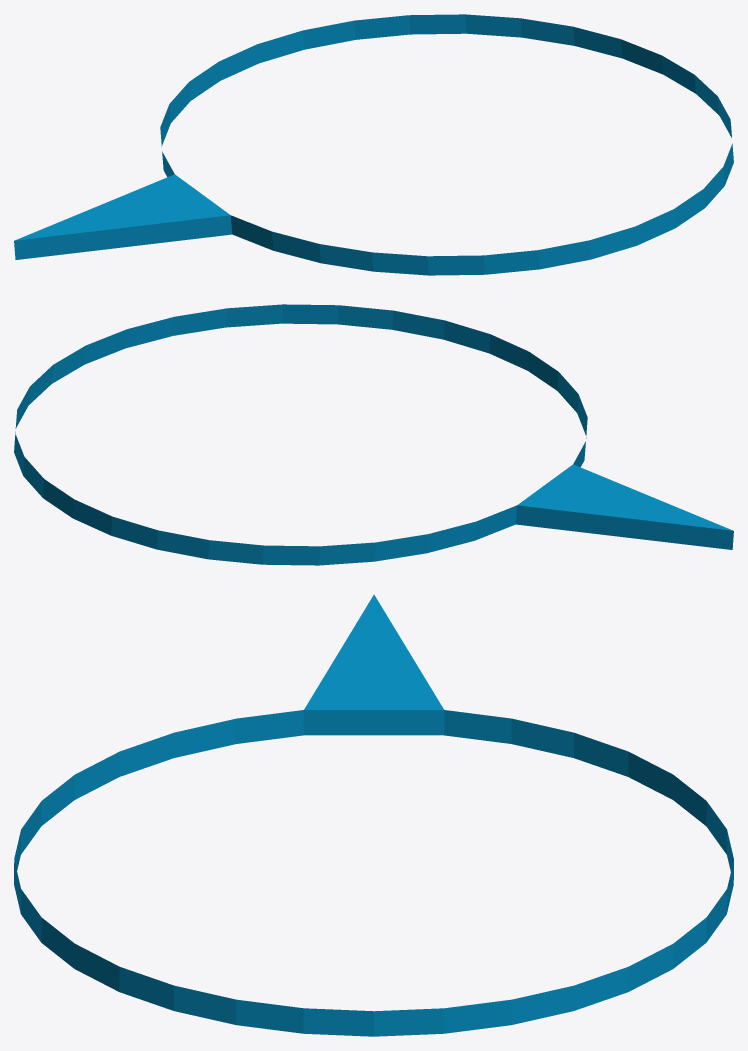
File: flecha_direccion_player.obj
3 renders of one model, top to bottom at view 1: azimuth 30°, elevation 25°; view 2: azimuth 150°, elevation 25°; view 3: azimuth 270°, elevation 25°, orthographic. The views are drawn at different scales.
Parts seen in each view (by area): view 1: Circle; view 2: Circle; view 3: Circle.
Boxes of the visible parts, x1=… form: Circle: x1=14, y1=14, x2=733, y2=275; Circle: x1=14, y1=304, x2=733, y2=565; Circle: x1=14, y1=594, x2=733, y2=1036.
Bounding box in the file's own units: 5.87 × 0.1614 × 4.27.
